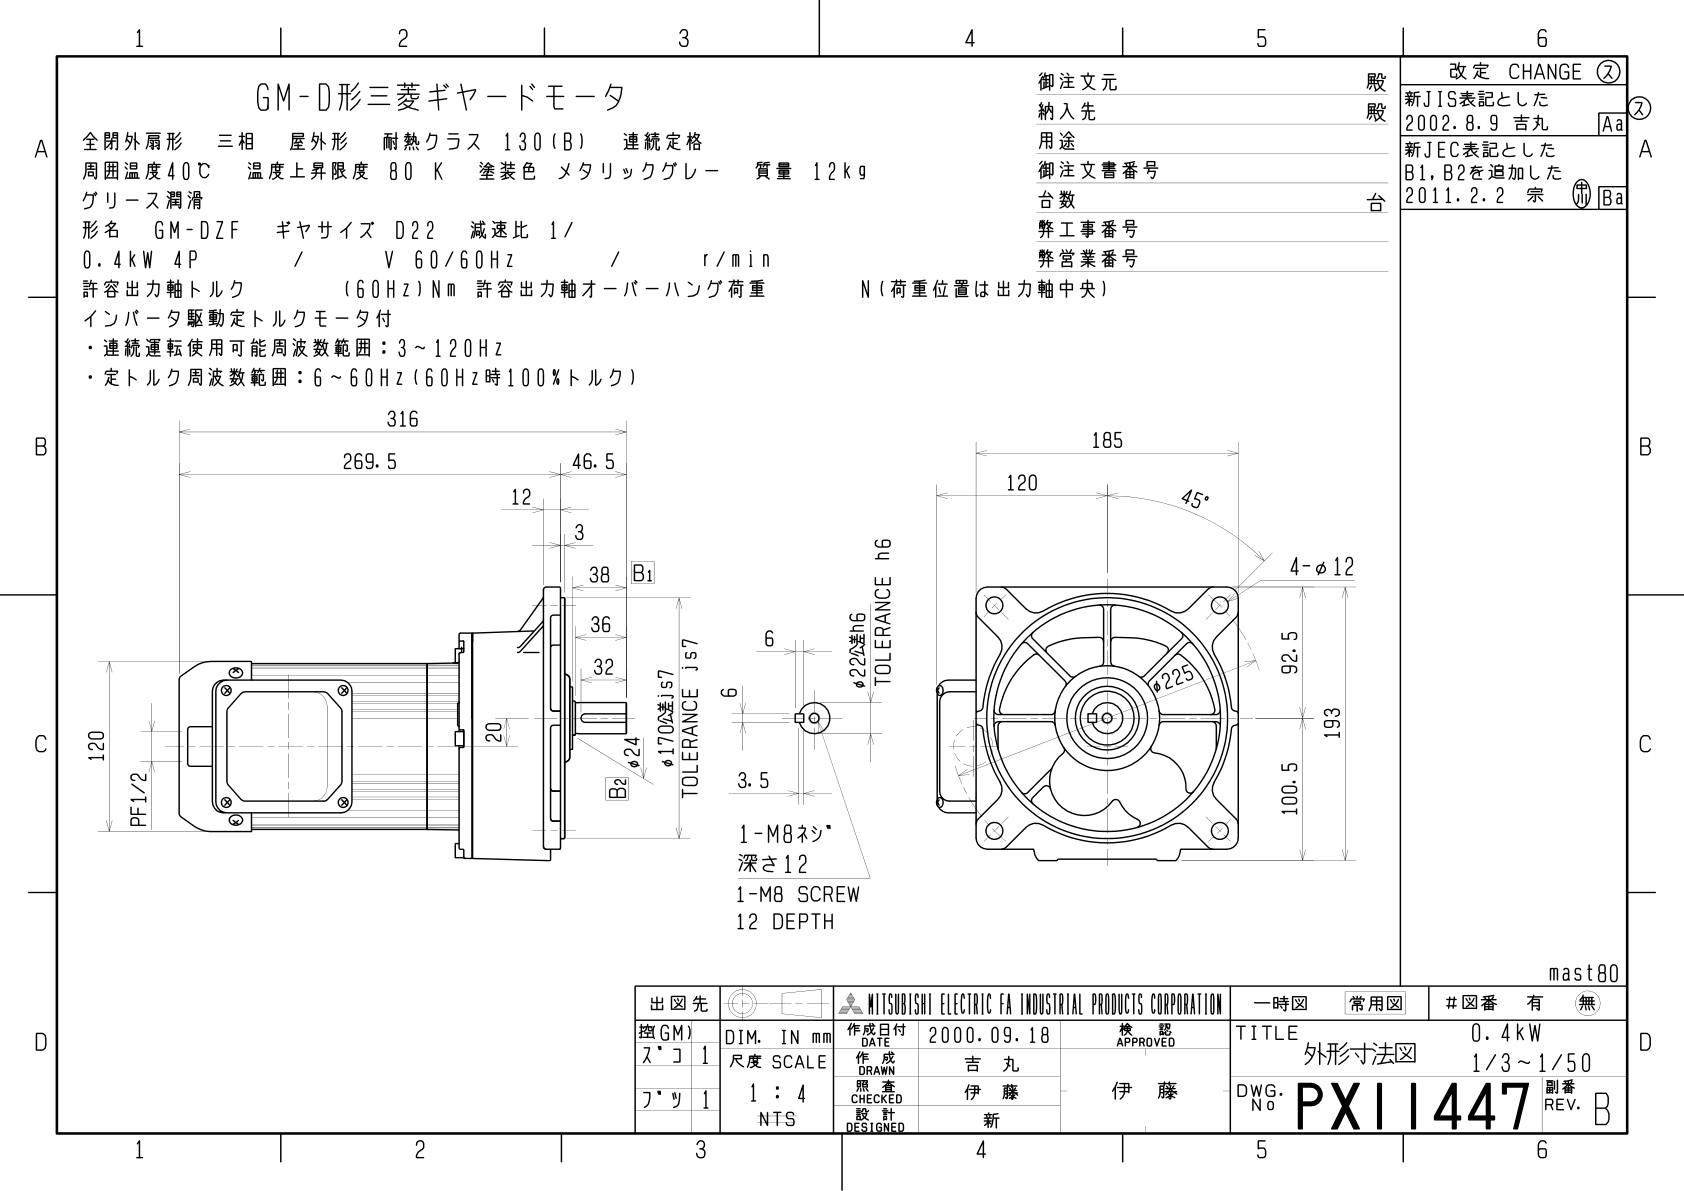GM_D_インバータ屋外_三相_フランジ: (71, 400, 1381, 969)
